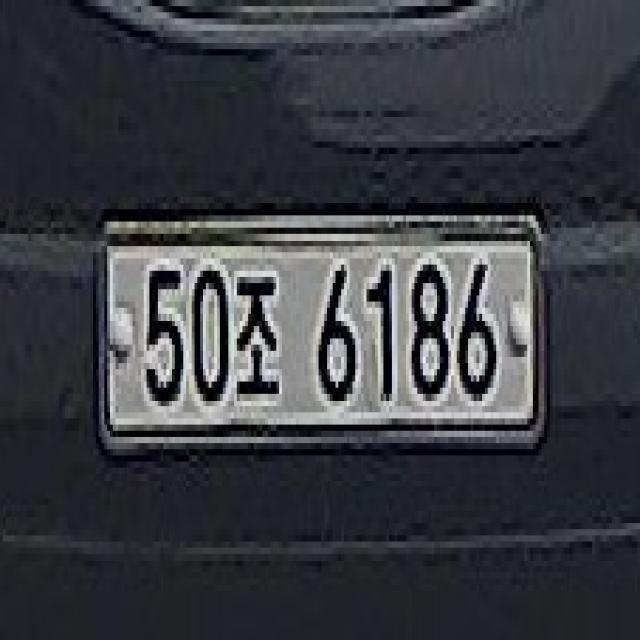0: (192, 258, 230, 414)
1: (365, 248, 400, 404)
5: (140, 255, 187, 413)
6: (314, 256, 362, 408), (456, 254, 502, 406)
8: (408, 252, 452, 412)
jo: (233, 258, 288, 414)
license_plate: (84, 220, 552, 469)
